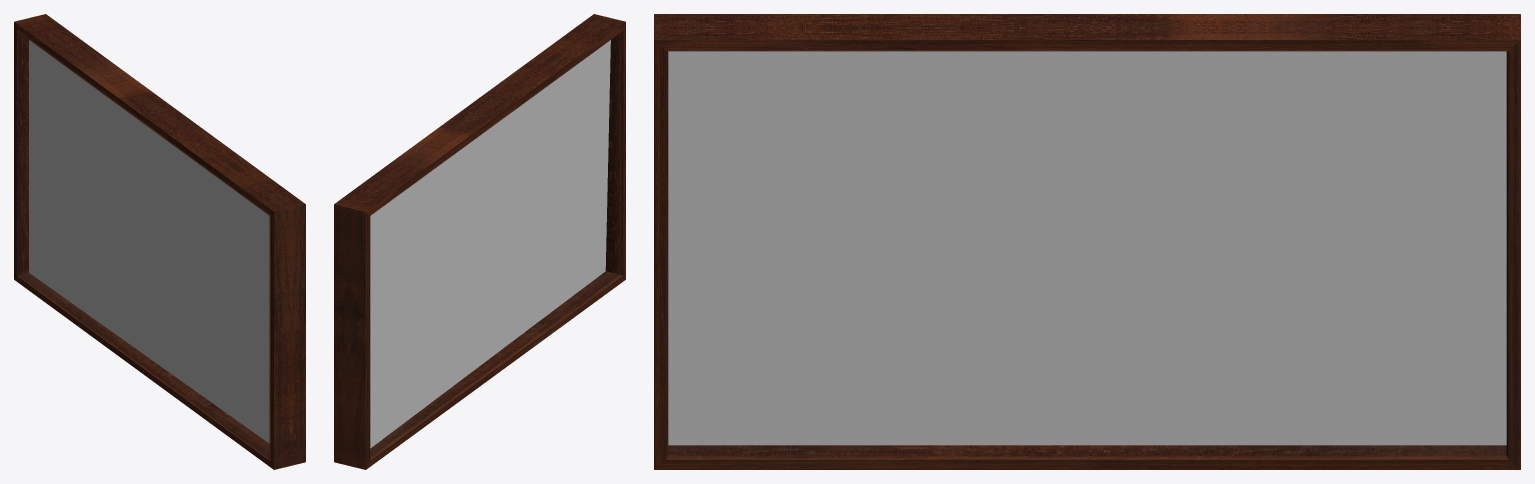
Rendered from WindowLeft.fbx.
The picture shows the model from 3 angles, left to right: view 1: azimuth 30°, elevation 25°; view 2: azimuth 150°, elevation 25°; view 3: azimuth 270°, elevation 25°; orthographic projection. The views are drawn at different scales.
Parts seen in each view (by area): view 1: Wood Glass Double Door.003; view 2: Wood Glass Double Door.003; view 3: Wood Glass Double Door.003.
Boxes of the visible parts, <box> form: Wood Glass Double Door.003: <box>14,14,305,469</box>; Wood Glass Double Door.003: <box>334,14,625,469</box>; Wood Glass Double Door.003: <box>654,14,1520,469</box>.
Size of the model in its own units: 47.97 by 356 by 649.
